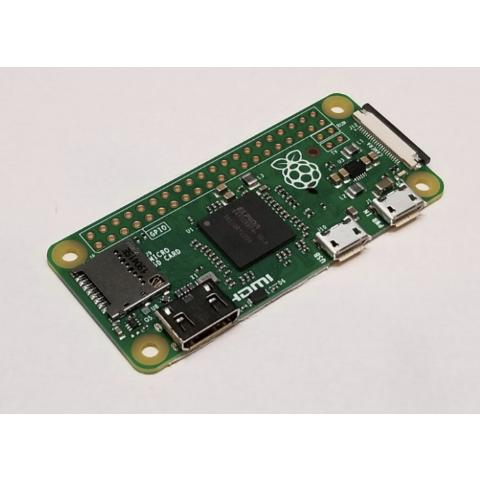Raspberry-Pi-Zero: (47, 92, 445, 374)
